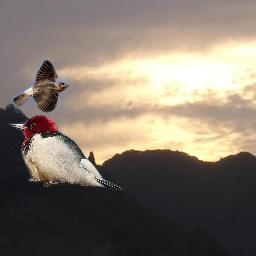Swallow: (12, 59, 71, 113)
Woodpecker: (8, 115, 125, 190)
